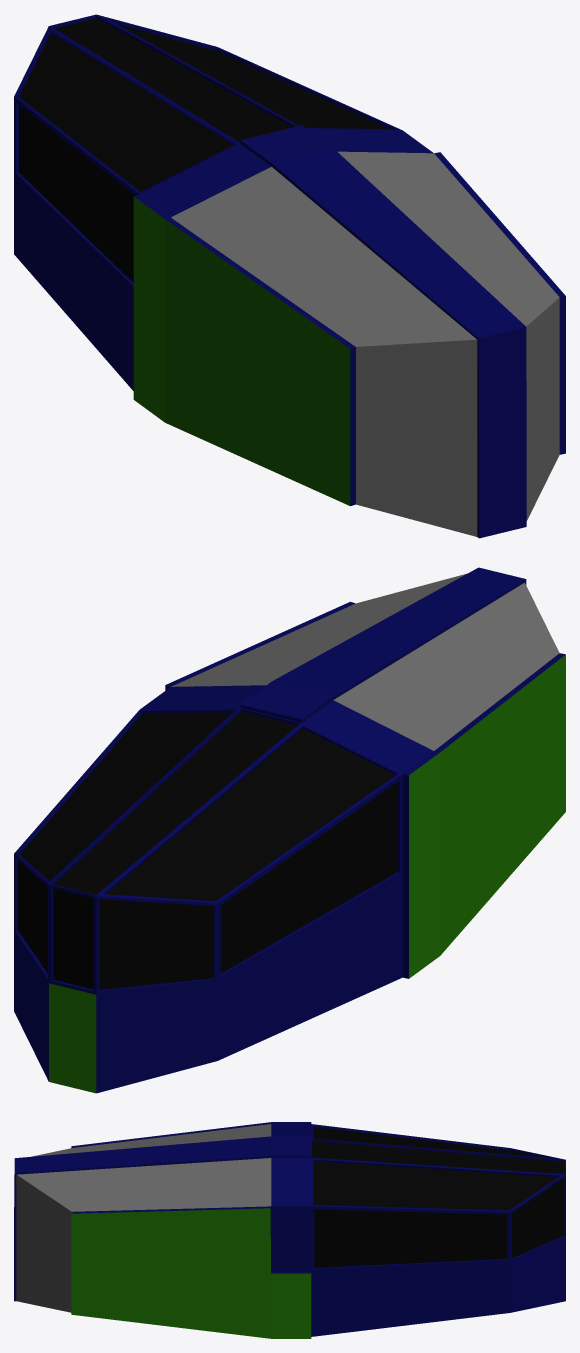
Rendered from Fusion_ControlSystem_Part_Wipeout.fbx.
The picture shows the model from 3 angles, top to bottom: view 1: azimuth 30°, elevation 25°; view 2: azimuth 150°, elevation 25°; view 3: azimuth 270°, elevation 25°; orthographic projection. The views are drawn at different scales.
Visible parts, largest first — view 1: Fusion_ControlSystem_Ship; view 2: Fusion_ControlSystem_Ship; view 3: Fusion_ControlSystem_Ship.
Boxes of the visible parts, bbox=[...] form: Fusion_ControlSystem_Ship: bbox=[14, 14, 565, 538]; Fusion_ControlSystem_Ship: bbox=[14, 567, 565, 1093]; Fusion_ControlSystem_Ship: bbox=[14, 1122, 565, 1338].
Size of the model in its own units: 220 by 596 by 198.
